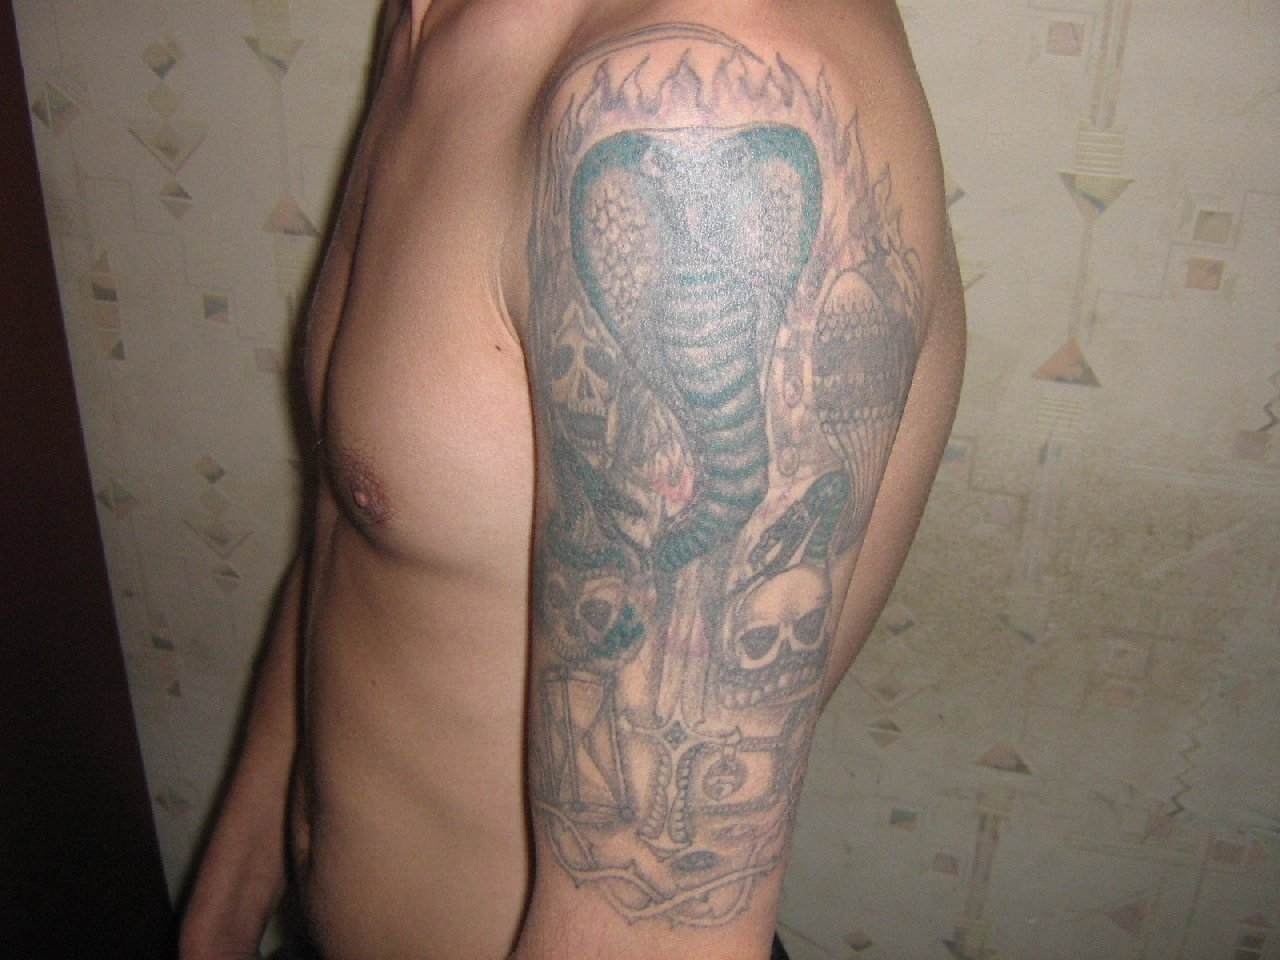tatu7_zmeya: (537, 99, 839, 745)
